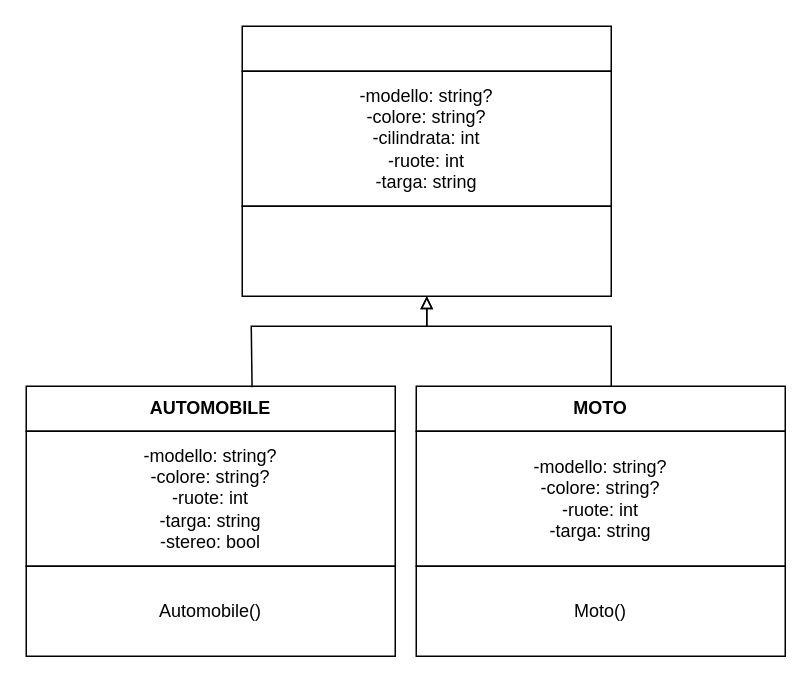
Some shapes in this 812 by 683 pixel diagram are drawn without their labels. The shapes that lost their labels are listed below. From the top down, each one's centre as x and y in pixels, then its label:
point 426,48: VEICOLI
point 426,250: +accelera() +stampaDettaglio()
